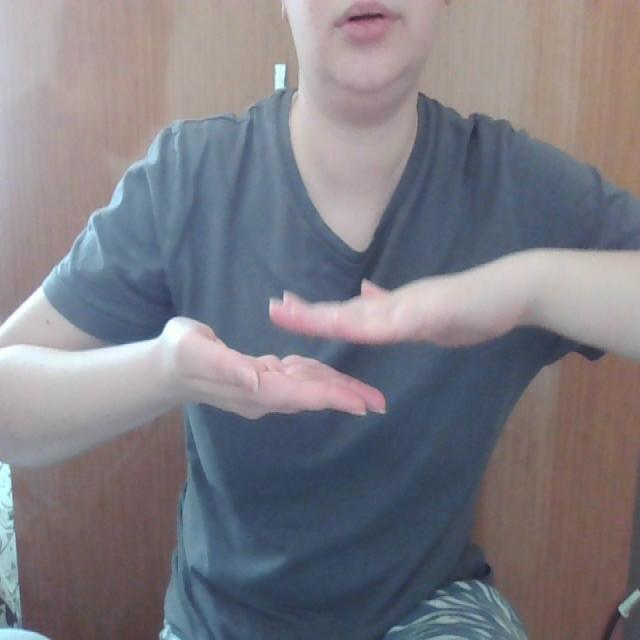Arkadas: (0, 268, 640, 426)
